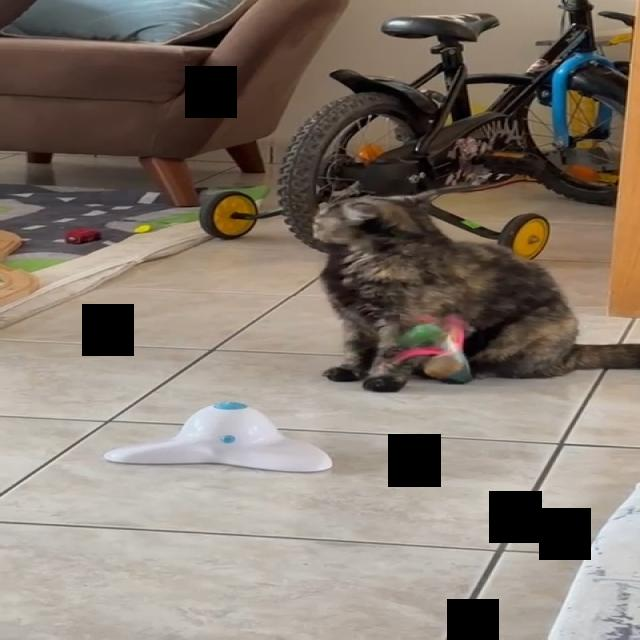authorized: (311, 188, 638, 392)
